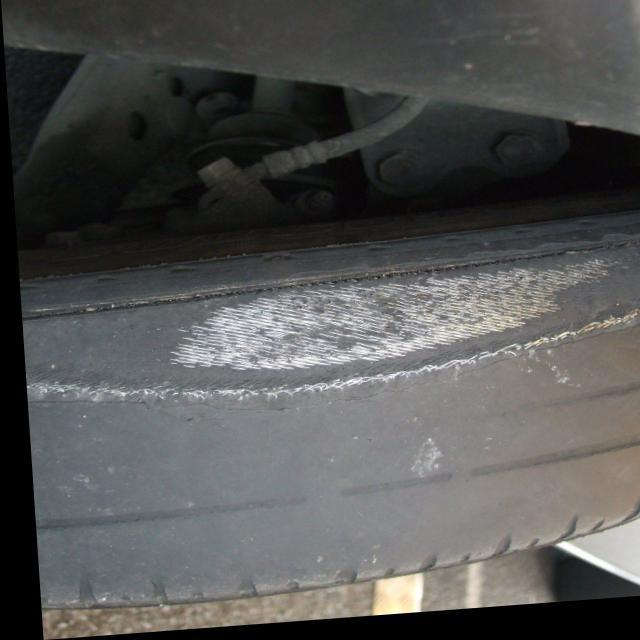Flat spots: (20, 301, 636, 521)
